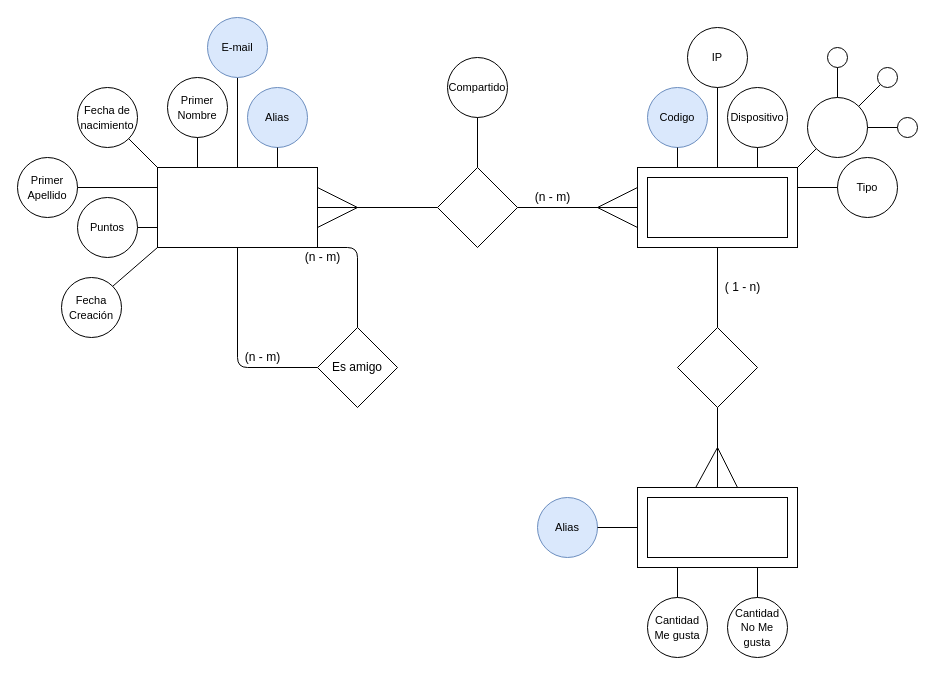
This 935x675 diagram has some shape labels left out. The shapes that lost their labels are listed below. From the top down, each one's centre as x and y in pixels, then its label:
At [837,127]: "Fecha y Hora".
At [237,207]: "USUARIO".
At [477,207]: "Publica".
At [717,207]: "PUBLICACIÓN".
At [717,367]: "Se registra".
At [717,527]: "BITACORA".
